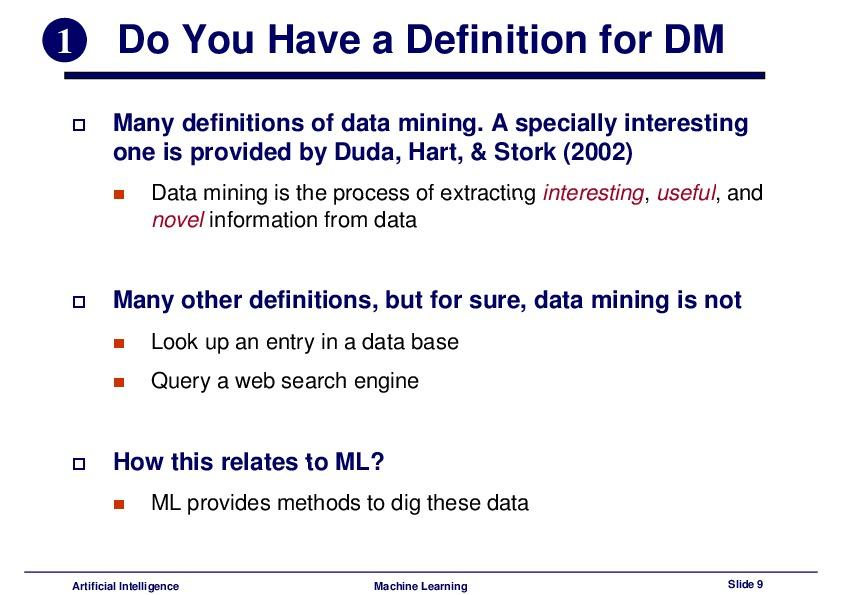paragraph: (146, 179, 787, 247), (142, 325, 495, 418), (147, 482, 549, 539)
subtitle: (112, 99, 766, 172), (104, 276, 754, 324), (67, 573, 818, 595), (107, 438, 391, 481)
title: (109, 13, 739, 65)
